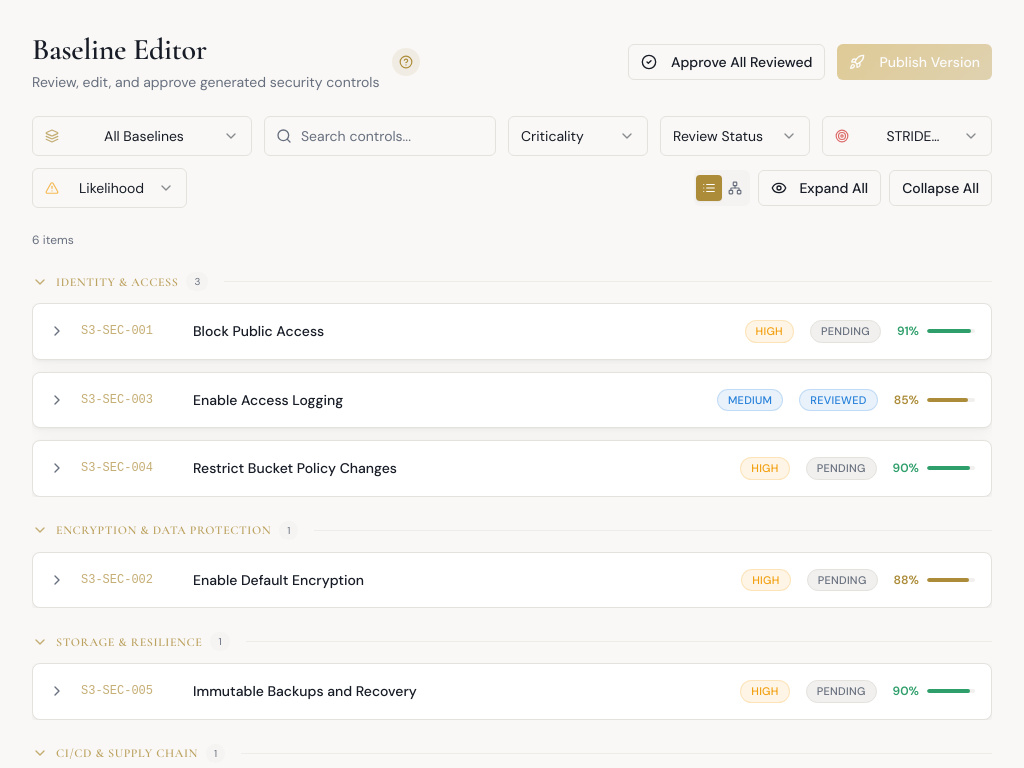
Scenario: BaselineEditor › shows no controls message when search has no results
Expected: the text "S3-SEC-001" is shown, [81,324,153,338]
Type "nonexistent_xyz_12345" into the field with placeholder "Search controls..." at (380, 136), box [264,116,496,156]
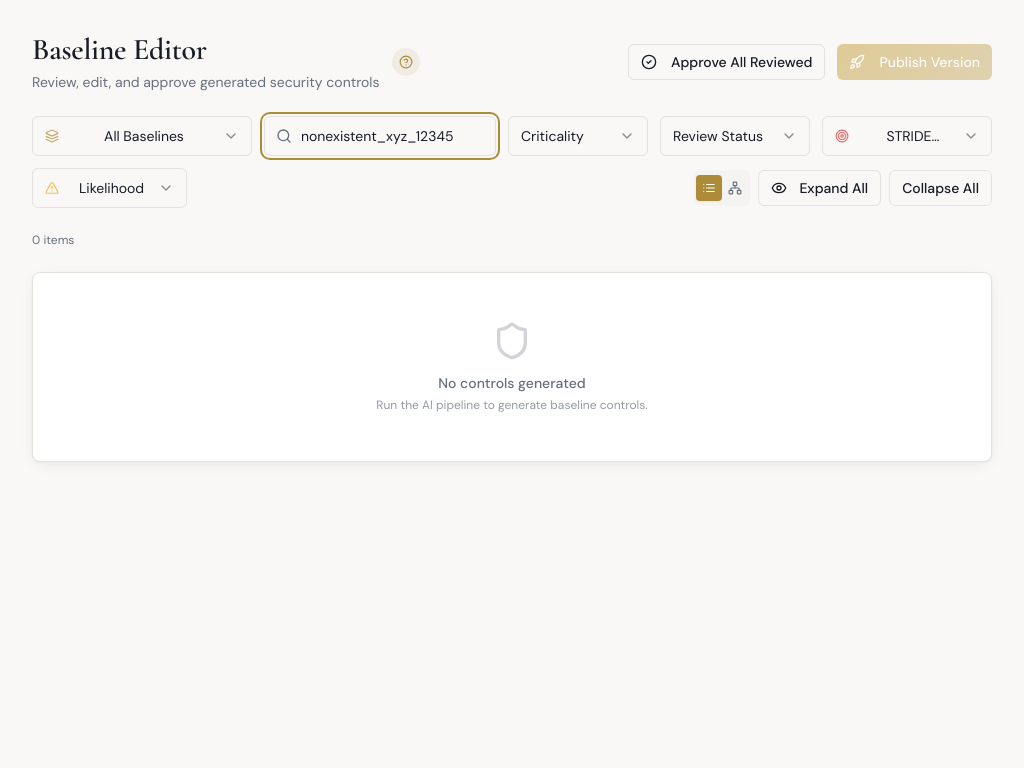
Now the text "No controls generated" is shown, box [438,374,586,392]
